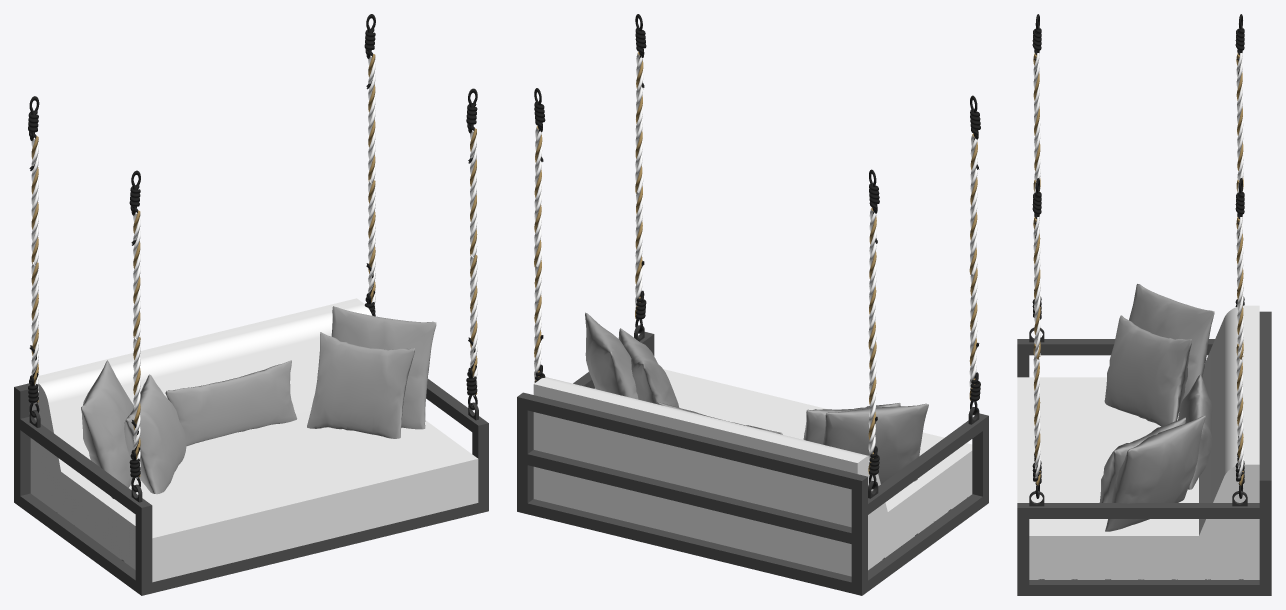
File: 56 BRAVADA swing 66 x 42.obj
3 renders of one model, left to right at view 1: azimuth 30°, elevation 25°; view 2: azimuth 150°, elevation 25°; view 3: azimuth 270°, elevation 25°, orthographic.
Parts seen in each view (by area): view 1: Mesh68 Component_140_1 Group26 Group1 Model, Mesh69 Component_139_1 Group26 Group1 Model, Mesh73 Pillow_Abernathy_44_1 Pillow_Abernathy_SKU_EAN5489__154_1, Mesh70 Pillow_Abernathy_46_1 Pillow_Abernathy_SKU_EAN5489__153_1, Mesh71 Pillow_Gardenia_14_1 Pillow_Gardenia_ID_Jaipur_PEY05__17_, Mesh72 Pillow_Abernathy_45_1 Pillow_Abernathy_SKU_EAN5489__152_1, Mesh74 Pillow_Gardenia_15_1 Pillow_Gardenia_ID_Jaipur_PEY05__18_, Mesh45 Group27 Group26 Group1 Model, Mesh61 Group45 Group40 Group26 Group1 Model, Mesh66 Group52 Group51 Group26 Group1 Model, Mesh59 Group43 Group40 Group26 Group1 Model, Mesh67 Group53 Group51 Group26 Group1 Model (+2 smaller); view 2: Mesh68 Component_140_1 Group26 Group1 Model, Mesh69 Component_139_1 Group26 Group1 Model, Mesh57 Group41 Group40 Group26 Group1 Model, Mesh64 Group49 Group26 Group1 Model, Mesh65 Group50 Group26 Group1 Model, Mesh74 Pillow_Gardenia_15_1 Pillow_Gardenia_ID_Jaipur_PEY05__18_, Mesh71 Pillow_Gardenia_14_1 Pillow_Gardenia_ID_Jaipur_PEY05__17_, Mesh61 Group45 Group40 Group26 Group1 Model, Mesh66 Group52 Group51 Group26 Group1 Model, Mesh73 Pillow_Abernathy_44_1 Pillow_Abernathy_SKU_EAN5489__154_1, Mesh59 Group43 Group40 Group26 Group1 Model, Mesh60 Group44 Group40 Group26 Group1 Model (+2 smaller); view 3: Mesh68 Component_140_1 Group26 Group1 Model, Mesh69 Component_139_1 Group26 Group1 Model, Mesh72 Pillow_Abernathy_45_1 Pillow_Abernathy_SKU_EAN5489__152_1, Mesh71 Pillow_Gardenia_14_1 Pillow_Gardenia_ID_Jaipur_PEY05__17_, Mesh58 Group42 Group40 Group26 Group1 Model, Mesh74 Pillow_Gardenia_15_1 Pillow_Gardenia_ID_Jaipur_PEY05__18_, Mesh62 Group47 Group46 Group26 Group1 Model, Mesh57 Group41 Group40 Group26 Group1 Model, Mesh70 Pillow_Abernathy_46_1 Pillow_Abernathy_SKU_EAN5489__153_1, Mesh66 Group52 Group51 Group26 Group1 Model, Mesh60 Group44 Group40 Group26 Group1 Model, Mesh73 Pillow_Abernathy_44_1 Pillow_Abernathy_SKU_EAN5489__154_1 (+2 smaller).
Boxes of the visible parts, box(x1,y1,x2,y2) form: Mesh68 Component_140_1 Group26 Group1 Model: box(30, 410, 478, 582); Mesh69 Component_139_1 Group26 Group1 Model: box(30, 298, 372, 471); Mesh73 Pillow_Abernathy_44_1 Pillow_Abernathy_SKU_EAN5489__154_1: box(307, 332, 414, 438); Mesh70 Pillow_Abernathy_46_1 Pillow_Abernathy_SKU_EAN5489__153_1: box(165, 360, 296, 446); Mesh71 Pillow_Gardenia_14_1 Pillow_Gardenia_ID_Jaipur_PEY05__17_: box(331, 306, 436, 429); Mesh72 Pillow_Abernathy_45_1 Pillow_Abernathy_SKU_EAN5489__152_1: box(124, 374, 186, 494); Mesh74 Pillow_Gardenia_15_1 Pillow_Gardenia_ID_Jaipur_PEY05__18_: box(81, 360, 133, 498); Mesh45 Group27 Group26 Group1 Model: box(141, 500, 488, 595); Mesh61 Group45 Group40 Group26 Group1 Model: box(14, 493, 141, 595); Mesh66 Group52 Group51 Group26 Group1 Model: box(20, 416, 151, 514); Mesh59 Group43 Group40 Group26 Group1 Model: box(14, 387, 30, 502); Mesh67 Group53 Group51 Group26 Group1 Model: box(135, 505, 152, 584); Mesh68 Component_140_1 Group26 Group1 Model: box(533, 369, 972, 576); Mesh69 Component_139_1 Group26 Group1 Model: box(533, 377, 887, 527); Mesh57 Group41 Group40 Group26 Group1 Model: box(517, 392, 867, 489); Mesh64 Group49 Group26 Group1 Model: box(527, 450, 851, 543); Mesh65 Group50 Group26 Group1 Model: box(527, 499, 851, 593); Mesh74 Pillow_Gardenia_15_1 Pillow_Gardenia_ID_Jaipur_PEY05__18_: box(822, 403, 928, 483); Mesh71 Pillow_Gardenia_14_1 Pillow_Gardenia_ID_Jaipur_PEY05__17_: box(585, 312, 638, 399); Mesh61 Group45 Group40 Group26 Group1 Model: box(862, 492, 988, 595); Mesh66 Group52 Group51 Group26 Group1 Model: box(868, 413, 988, 514); Mesh73 Pillow_Abernathy_44_1 Pillow_Abernathy_SKU_EAN5489__154_1: box(618, 328, 679, 407); Mesh59 Group43 Group40 Group26 Group1 Model: box(851, 477, 867, 595); Mesh60 Group44 Group40 Group26 Group1 Model: box(517, 397, 533, 514); Mesh68 Component_140_1 Group26 Group1 Model: box(1017, 377, 1259, 579); Mesh69 Component_139_1 Group26 Group1 Model: box(1199, 305, 1259, 535); Mesh72 Pillow_Abernathy_45_1 Pillow_Abernathy_SKU_EAN5489__152_1: box(1104, 315, 1191, 426); Mesh71 Pillow_Gardenia_14_1 Pillow_Gardenia_ID_Jaipur_PEY05__17_: box(1105, 415, 1205, 531); Mesh58 Group42 Group40 Group26 Group1 Model: box(1017, 580, 1271, 595); Mesh74 Pillow_Gardenia_15_1 Pillow_Gardenia_ID_Jaipur_PEY05__18_: box(1129, 284, 1214, 402); Mesh62 Group47 Group46 Group26 Group1 Model: box(1017, 503, 1259, 518); Mesh57 Group41 Group40 Group26 Group1 Model: box(1259, 311, 1271, 480); Mesh70 Pillow_Abernathy_46_1 Pillow_Abernathy_SKU_EAN5489__153_1: box(1178, 374, 1212, 489); Mesh66 Group52 Group51 Group26 Group1 Model: box(1017, 339, 1214, 355); Mesh60 Group44 Group40 Group26 Group1 Model: box(1259, 480, 1271, 595); Mesh73 Pillow_Abernathy_44_1 Pillow_Abernathy_SKU_EAN5489__154_1: box(1099, 417, 1185, 502).
Bounding box in the file's own units: 66.91 × 75.63 × 42.
